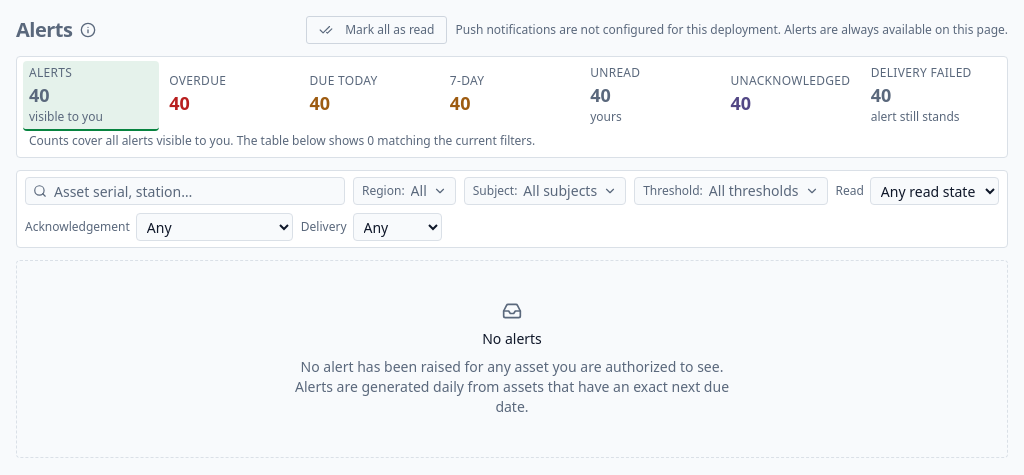
Test: Loading, empty, no-match and failure are four different screens › distinguishes "no match" from "nothing exists"
Type "zzzz" into the search field named "search alerts".
click(185, 191); type("zzzz")  # box 25,177 -> 345,205
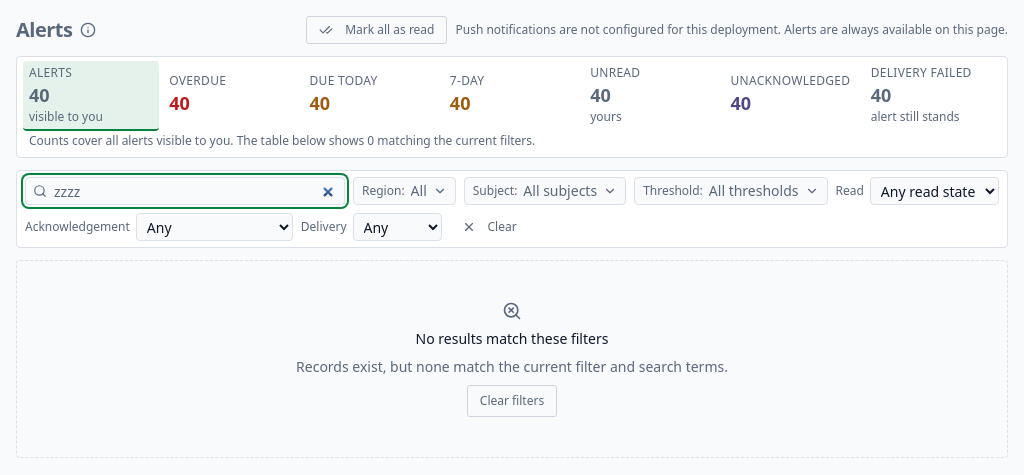
Result: the text "No results match these filters" is shown at 416,329 -> 608,349
